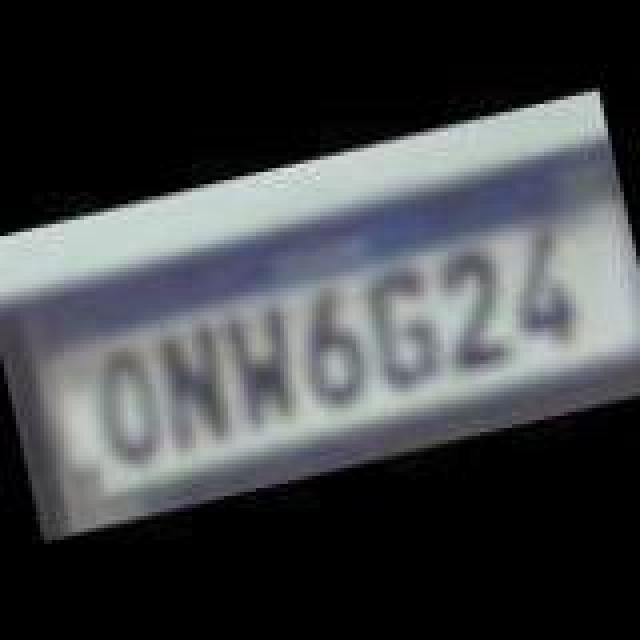2: (428, 240, 516, 372)
4: (494, 222, 586, 358)
6: (284, 276, 380, 412)
G: (352, 260, 448, 396)
N: (150, 316, 234, 448)
O: (82, 344, 174, 468)
W: (216, 296, 312, 432)
